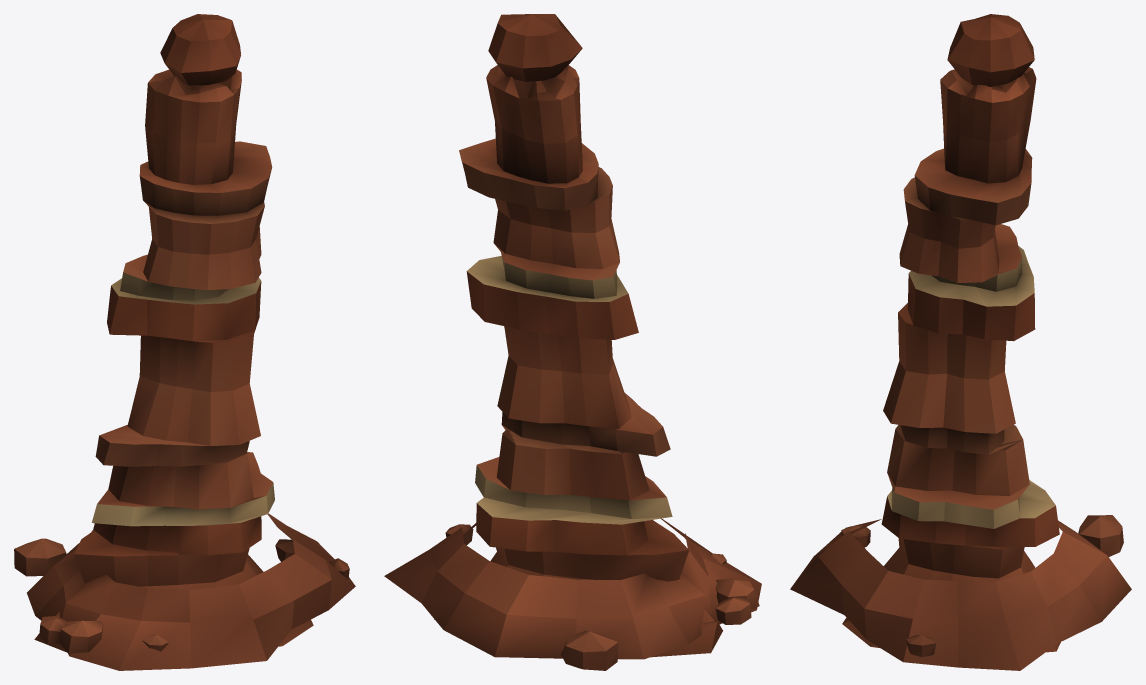
The model's file is hoodoo_a.glb.
3 views of the same model, side by side, from view 1: azimuth 30°, elevation 25°; view 2: azimuth 150°, elevation 25°; view 3: azimuth 270°, elevation 25° (orthographic). The views are drawn at different scales.
Visible parts, largest first — view 1: rock_red, dirt_red, sand; view 2: rock_red, sand, dirt_red; view 3: rock_red, sand, dirt_red.
Part boxes in pixels (x1,y1,x2,y2): rock_red: [14, 14, 355, 670]; dirt_red: [95, 168, 271, 466]; sand: [92, 272, 274, 526]; rock_red: [384, 14, 761, 670]; sand: [467, 253, 672, 524]; dirt_red: [460, 154, 670, 456]; rock_red: [790, 14, 1131, 670]; sand: [887, 246, 1055, 528]; dirt_red: [895, 175, 1031, 454].
Size of what is drawn, in the model's own units: 21.9 by 38.72 by 19.92.
